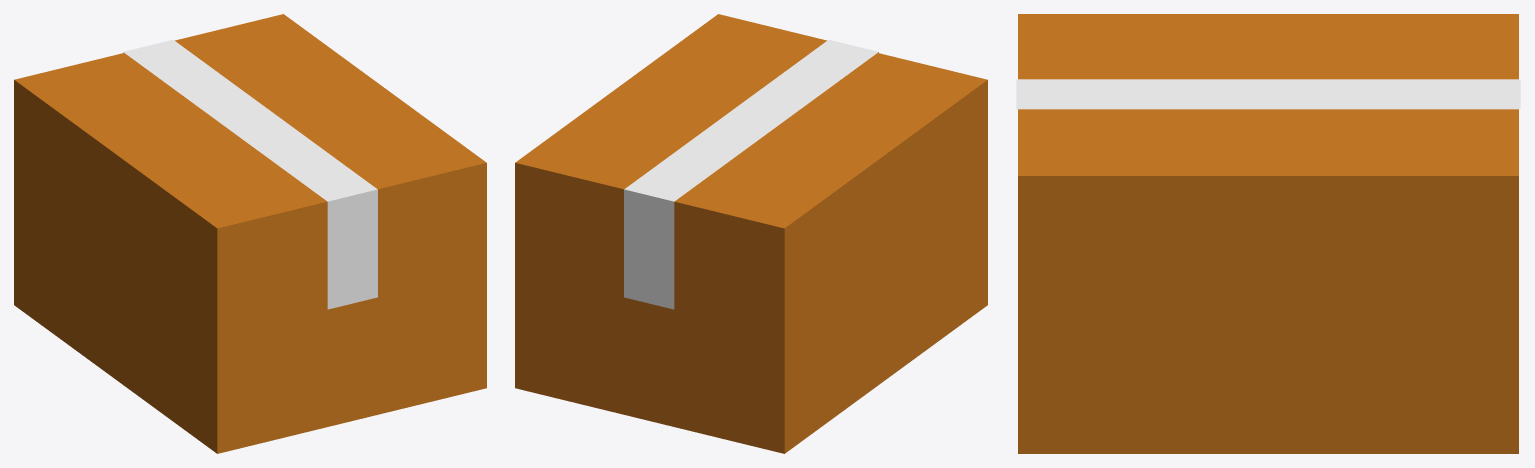
3 views of the same model, side by side, from view 1: azimuth 30°, elevation 25°; view 2: azimuth 150°, elevation 25°; view 3: azimuth 270°, elevation 25° (orthographic). The views are drawn at different scales.
Visible parts, largest first — view 1: Box009, Box010; view 2: Box009, Box010; view 3: Box009, Box010.
Part boxes in pixels (<box>): Box009: <box>14,14,486,453</box>; Box010: <box>123,40,377,309</box>; Box009: <box>515,14,987,453</box>; Box010: <box>624,40,878,309</box>; Box009: <box>1018,14,1518,453</box>; Box010: <box>1016,79,1520,109</box>.
Bounding box in the file's own units: 6.74 × 5.41 × 8.87.
